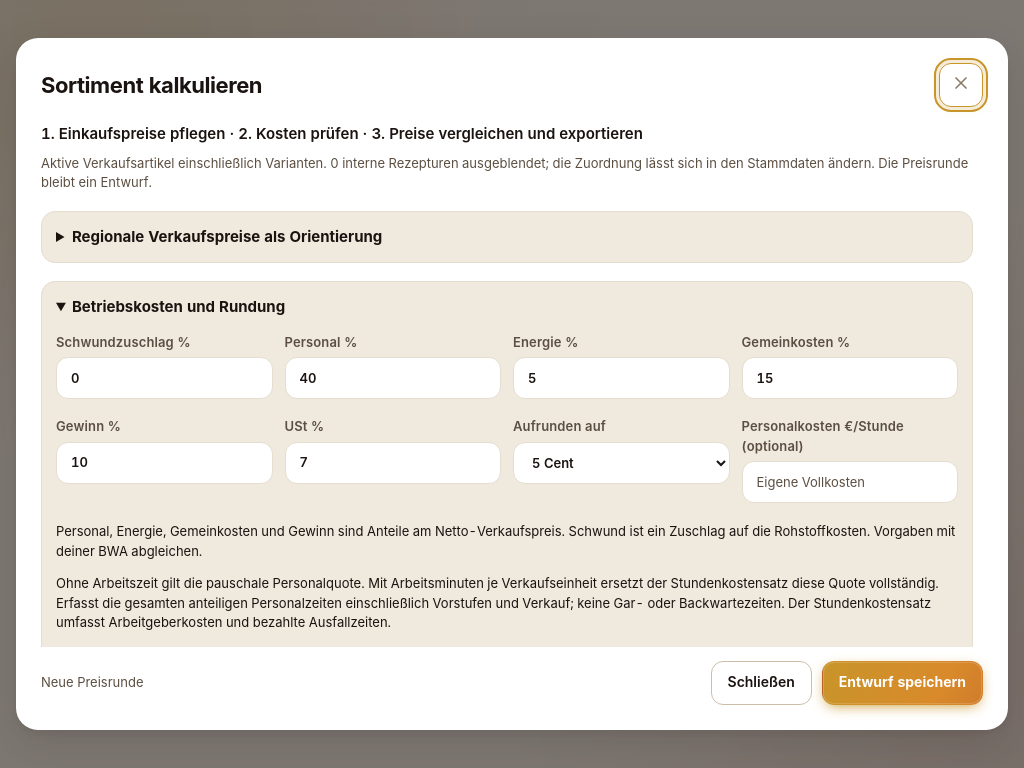
Test: blockiert ungültige Stundenkosten und erhält die Linkquellen der regionalen Beispiele
Type "-1" into the field labelled "Personalkosten €/Stunde (optional)" at (850, 482), box [742,461,958,503]
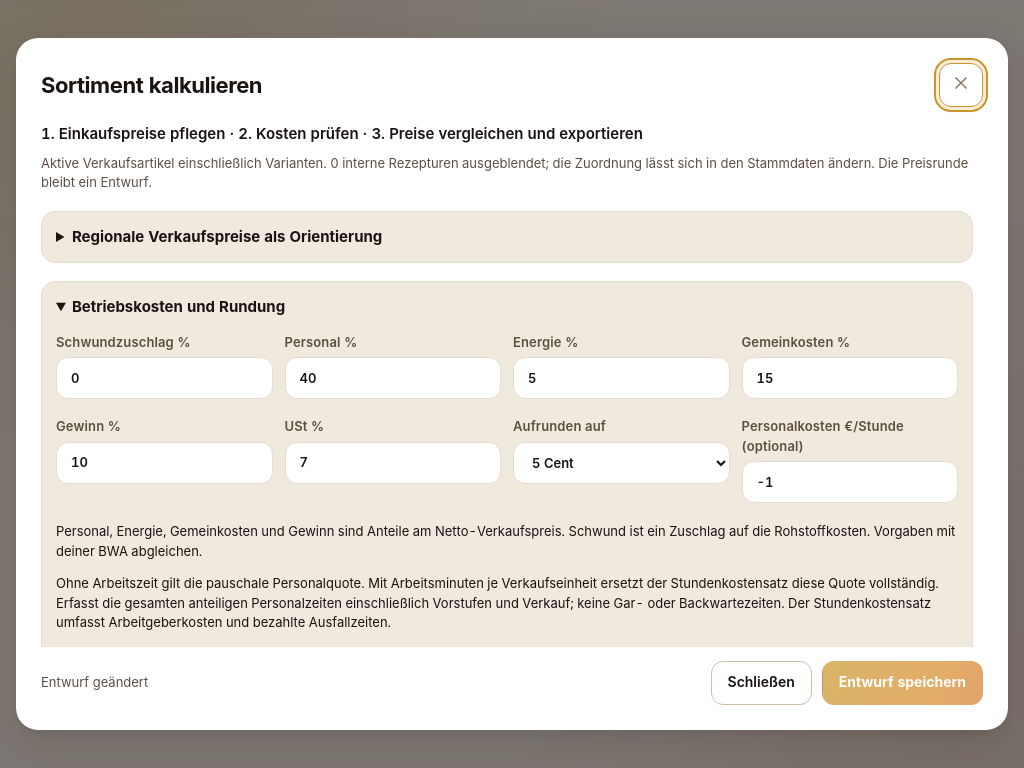
Expected: the button "Entwurf speichern" is disabled, [822,661,983,705]
